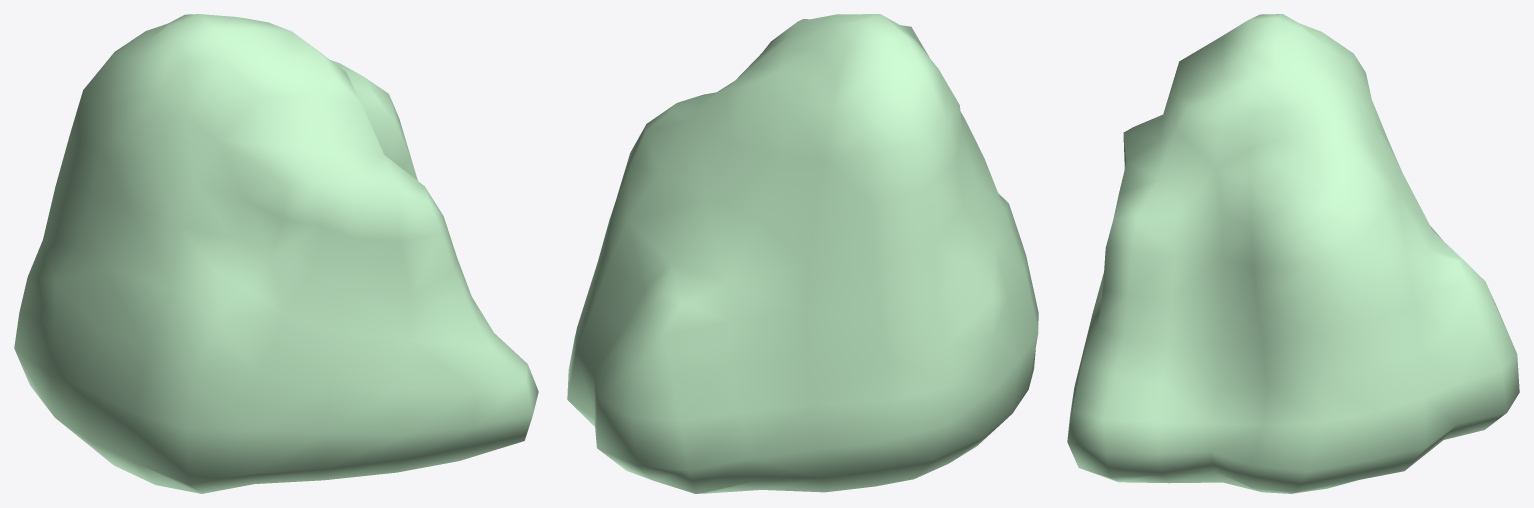
The model's file is boulder1.fbx.
3 renders of one model, left to right at view 1: azimuth 30°, elevation 25°; view 2: azimuth 150°, elevation 25°; view 3: azimuth 270°, elevation 25°, orthographic. The views are drawn at different scales.
Parts seen in each view (by area): view 1: boulder1; view 2: boulder1; view 3: boulder1.
Part boxes in pixels (x1=…): boulder1: x1=14, y1=14, x2=538, y2=493; boulder1: x1=567, y1=14, x2=1038, y2=493; boulder1: x1=1067, y1=14, x2=1519, y2=493.
Size of the model in its own units: 10270 by 10253 by 10759.
